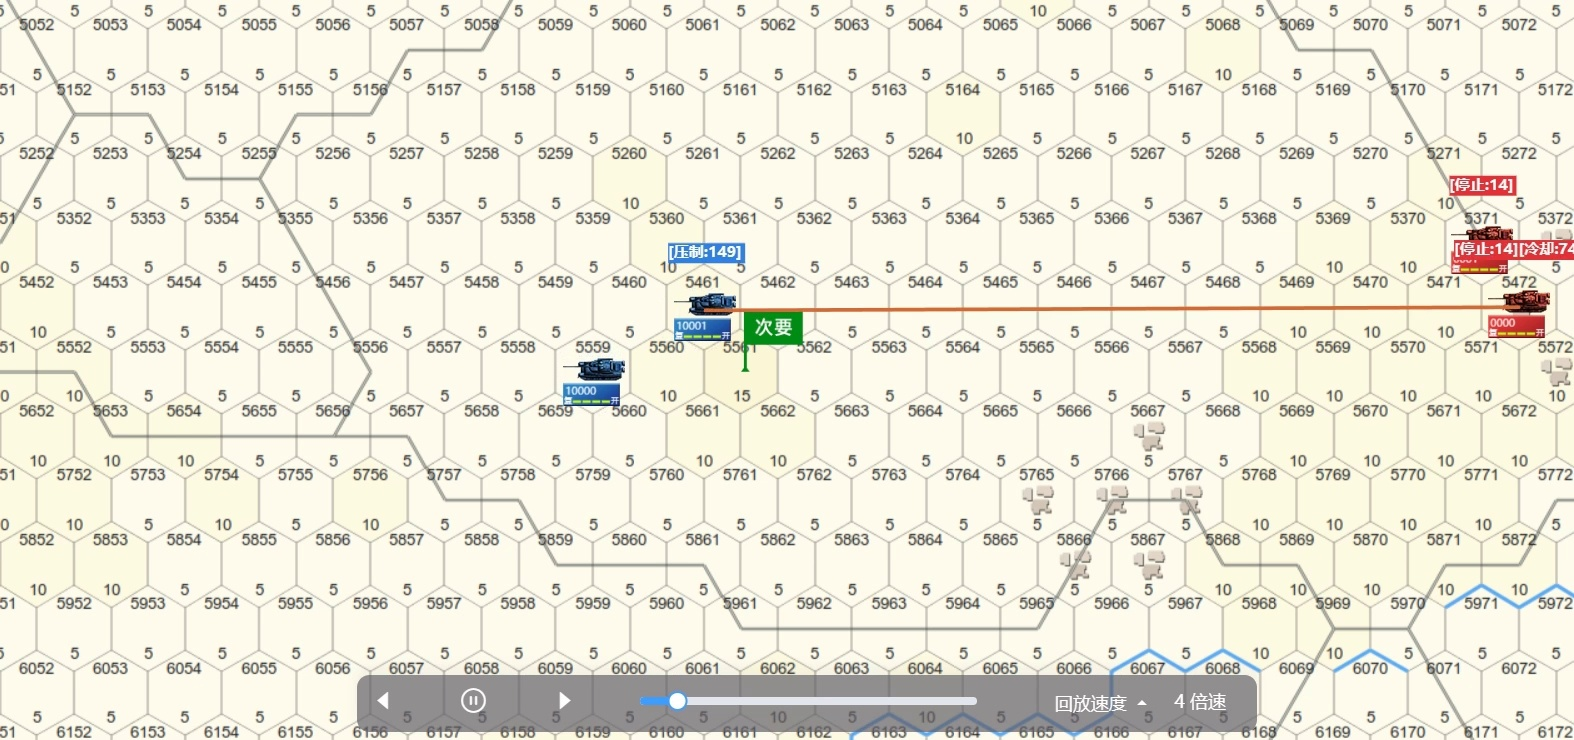blue_tank: (670, 292, 741, 349), (560, 359, 632, 414)
red_tank: (1449, 228, 1517, 280), (1493, 294, 1553, 346)
